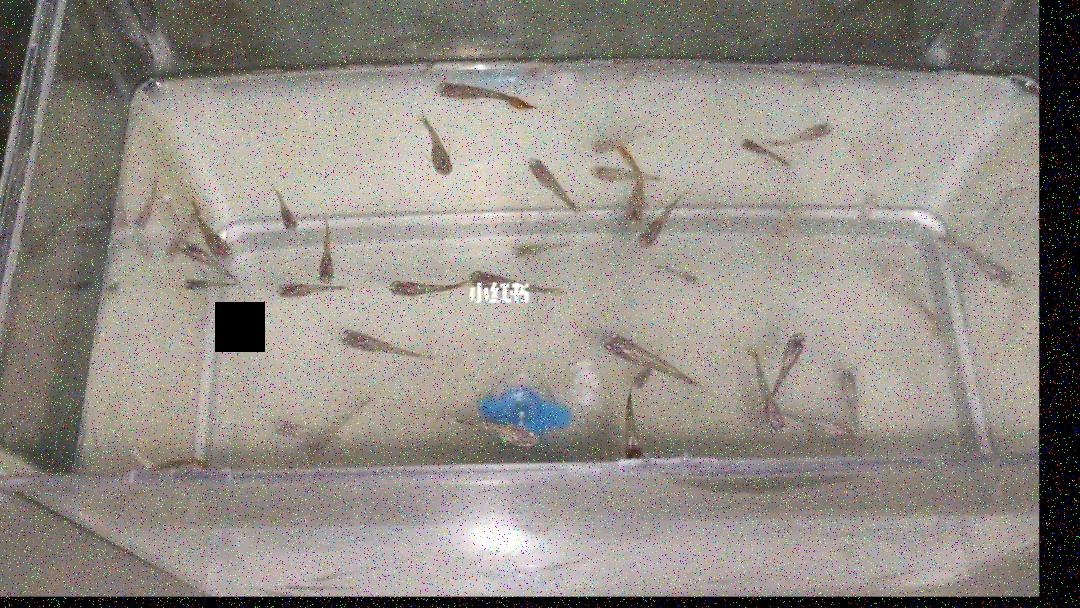fry: (950, 229, 1024, 295), (337, 318, 436, 367), (436, 71, 544, 114), (458, 405, 546, 456), (900, 284, 964, 354), (470, 261, 573, 300), (518, 153, 579, 218), (595, 320, 674, 370), (746, 363, 794, 444), (300, 406, 363, 463), (604, 390, 654, 460), (772, 320, 816, 398), (189, 198, 249, 255), (420, 104, 461, 187), (832, 365, 874, 432), (799, 409, 871, 448), (738, 132, 800, 177), (379, 270, 462, 303), (779, 112, 838, 154), (638, 198, 681, 253), (582, 125, 658, 156), (314, 214, 345, 284), (841, 185, 885, 234), (125, 182, 163, 236), (275, 273, 343, 303), (180, 237, 225, 282), (266, 185, 304, 235), (510, 235, 580, 261), (589, 161, 668, 184), (269, 411, 329, 440), (620, 168, 650, 226), (173, 273, 231, 302), (155, 220, 194, 262), (620, 361, 665, 394), (660, 260, 711, 289)
